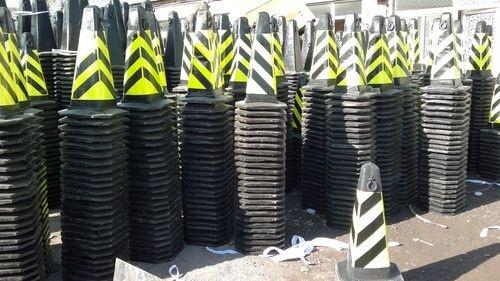cone_barrel: (61, 9, 123, 121), (343, 165, 397, 275), (118, 3, 170, 111), (179, 2, 226, 98), (238, 12, 282, 103), (424, 12, 460, 86), (305, 15, 340, 86), (337, 16, 367, 93), (364, 18, 393, 87), (227, 19, 250, 88), (465, 20, 492, 78), (163, 11, 182, 68)
